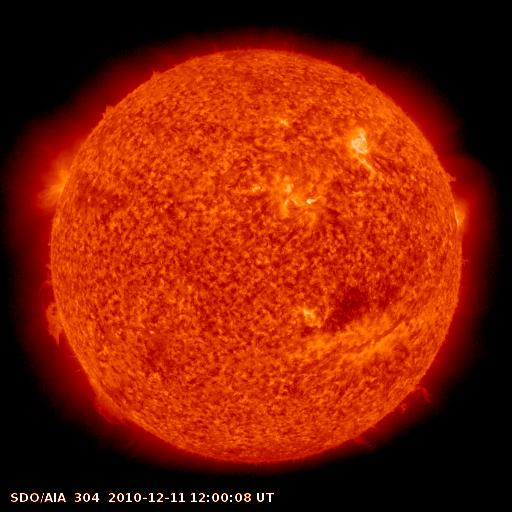prominence: (346, 371, 448, 451), (27, 275, 93, 365), (64, 377, 142, 439), (429, 151, 474, 196), (350, 53, 388, 97), (90, 89, 125, 123), (141, 62, 180, 90)
